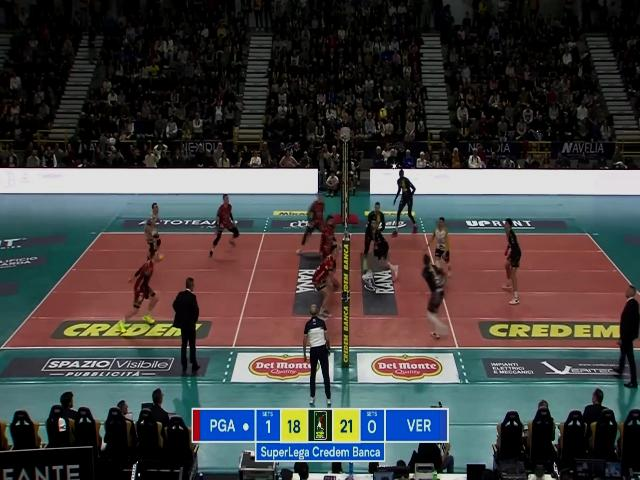volleyball court: (1, 229, 639, 349)
